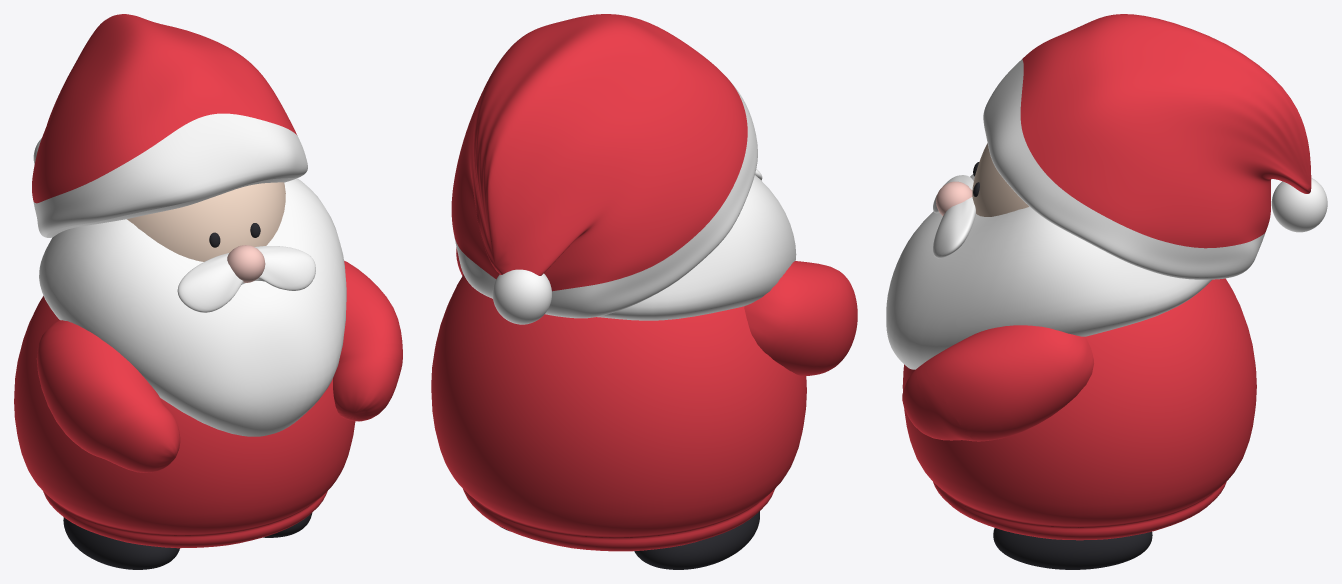
Rendered from classic.glb.
The picture shows the model from 3 angles, left to right: view 1: azimuth 30°, elevation 25°; view 2: azimuth 150°, elevation 25°; view 3: azimuth 270°, elevation 25°; orthographic projection. The views are drawn at different scales.
Visible parts, largest first — view 1: classic_red, classic_white, classic_skin, classic_black, classic_nose; view 2: classic_red, classic_white, classic_black; view 3: classic_red, classic_white, classic_black, classic_skin, classic_nose.
Boxes of the visible parts, box(x1,y1,x2,y2) form: classic_red: box(14, 14, 402, 548); classic_white: box(33, 113, 346, 436); classic_skin: box(127, 182, 285, 261); classic_black: box(63, 223, 312, 569); classic_nose: box(227, 245, 265, 282); classic_red: box(431, 14, 857, 551); classic_white: box(454, 82, 796, 324); classic_black: box(499, 511, 759, 569); classic_red: box(902, 14, 1311, 540); classic_white: box(886, 59, 1327, 369); classic_black: box(973, 162, 1152, 569); classic_skin: box(972, 143, 1028, 216); classic_nose: box(936, 181, 972, 215).
Size of the model in its own units: 2.14 by 2.96 by 2.37.
